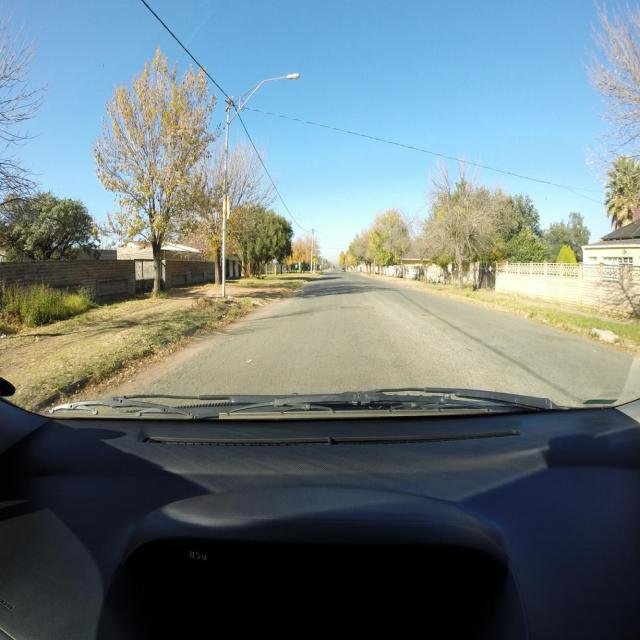Pothole: (363, 305, 375, 310), (422, 315, 429, 317)
